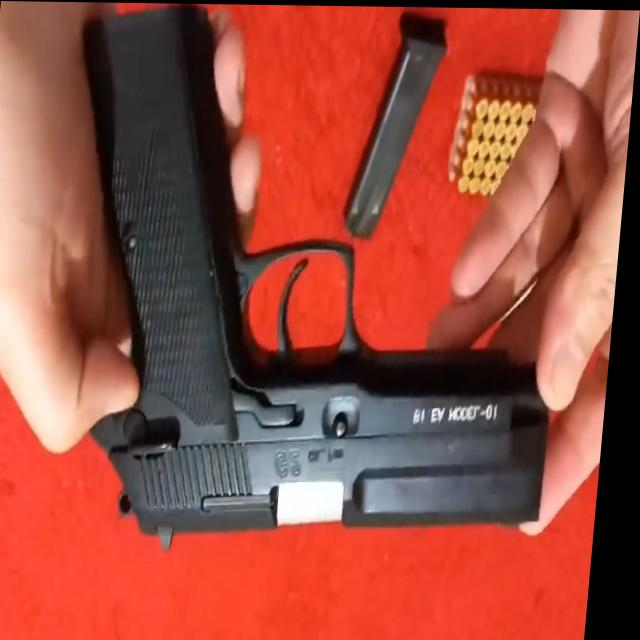handgun: (43, 1, 590, 543)
